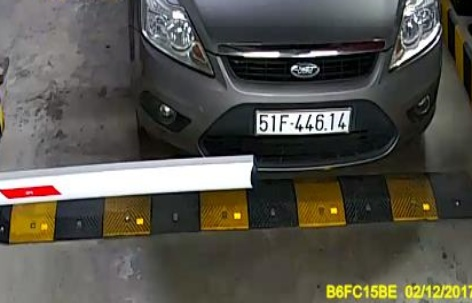plate: (253, 100, 354, 142)
